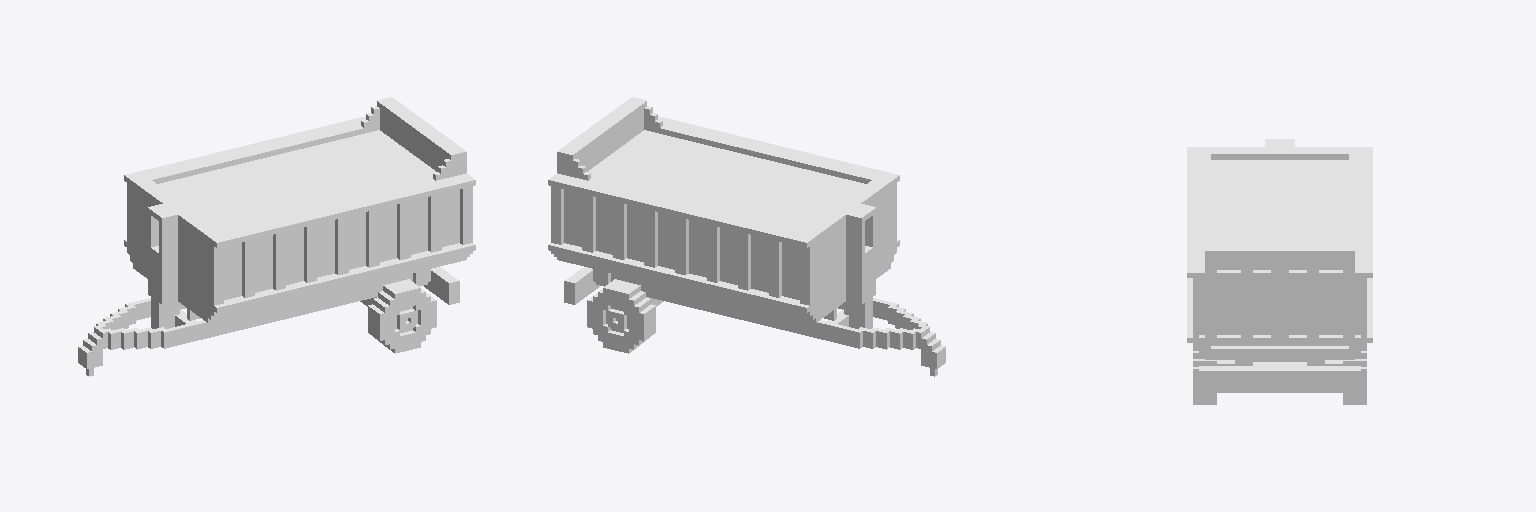
The model's file is Trailer_Wheat_Level_3.obj.
3 views of the same model, side by side, from view 1: azimuth 30°, elevation 25°; view 2: azimuth 150°, elevation 25°; view 3: azimuth 270°, elevation 25° (orthographic).
Visible parts, largest first — view 1: Trailer_Wheat_Level_3; view 2: Trailer_Wheat_Level_3; view 3: Trailer_Wheat_Level_3.
Boxes of the visible parts, x1=… form: Trailer_Wheat_Level_3: x1=78, y1=97, x2=475, y2=376; Trailer_Wheat_Level_3: x1=548, y1=97, x2=945, y2=376; Trailer_Wheat_Level_3: x1=1187, y1=139, x2=1372, y2=404.
Bounding box in the file's own units: 67 × 33 × 31.